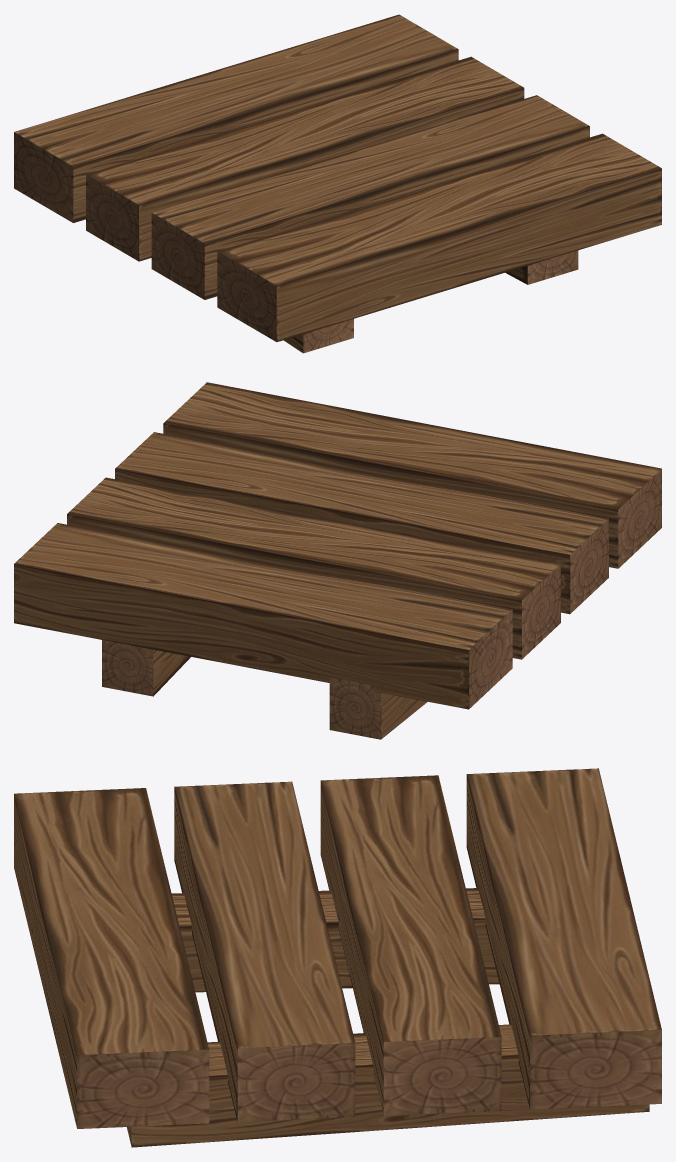
File: Wood_Platform_1.fbx
3 renders of one model, top to bottom at view 1: azimuth 30°, elevation 25°; view 2: azimuth 150°, elevation 25°; view 3: azimuth 270°, elevation 25°, orthographic. The views are drawn at different scales.
Visible parts, largest first — view 1: Wood_Platform_1; view 2: Wood_Platform_1; view 3: Wood_Platform_1.
Part boxes in pixels (x1,y1,x2,y2): Wood_Platform_1: (14, 14, 661, 353); Wood_Platform_1: (14, 382, 661, 739); Wood_Platform_1: (14, 768, 661, 1147).
Bounding box in the file's own units: 380 × 81.81 × 363.
